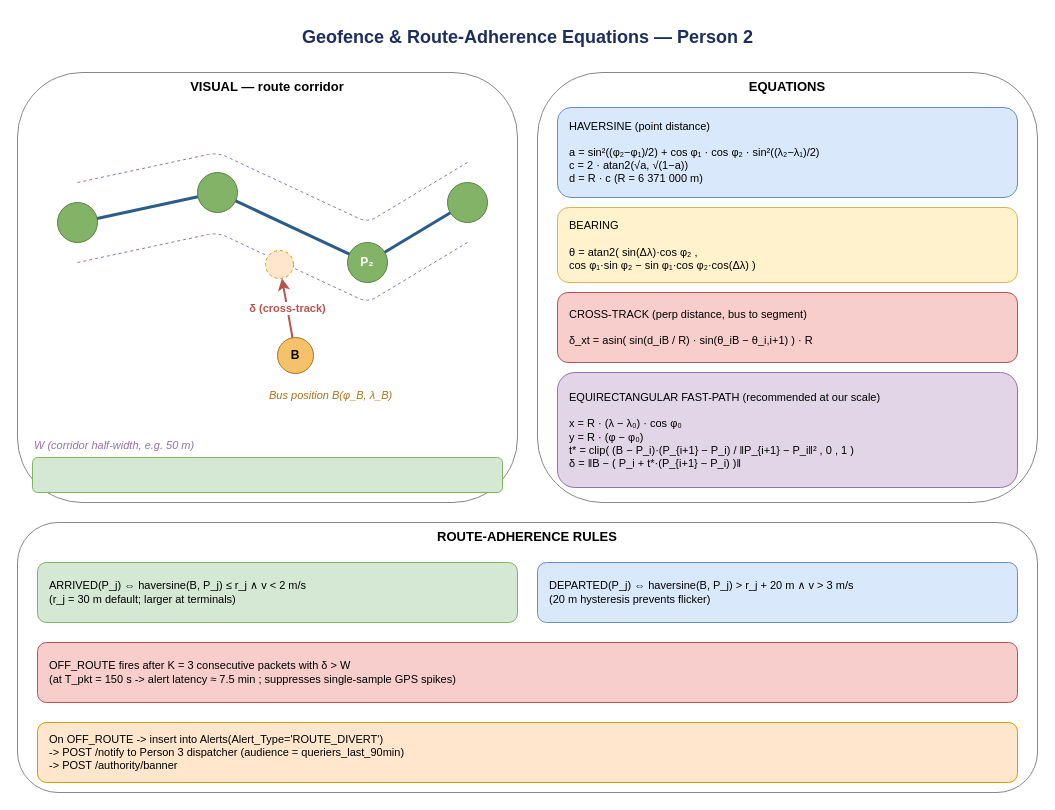
The diagram is 1055 pixels wide and 810 high, and some of its shapes have lost their labels. Here are the shapes that lost their labels. From the top down, the centre of each, then its label:
[217,192]: P₁
[467,202]: P₃
[77,222]: P₀
[279,264]: B'
[267,474]: on_route(B) ⇔ min over segments δ_i(B) ≤ W
